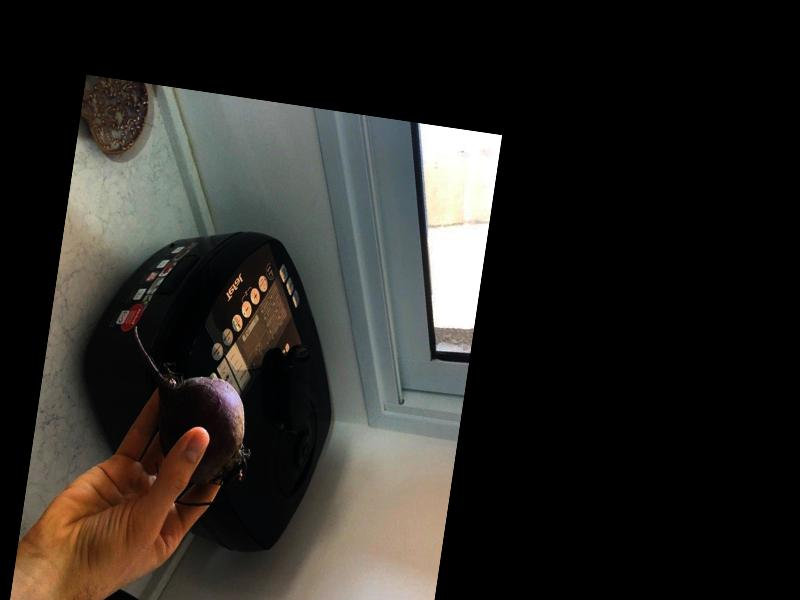Beet: (108, 325, 266, 511)
